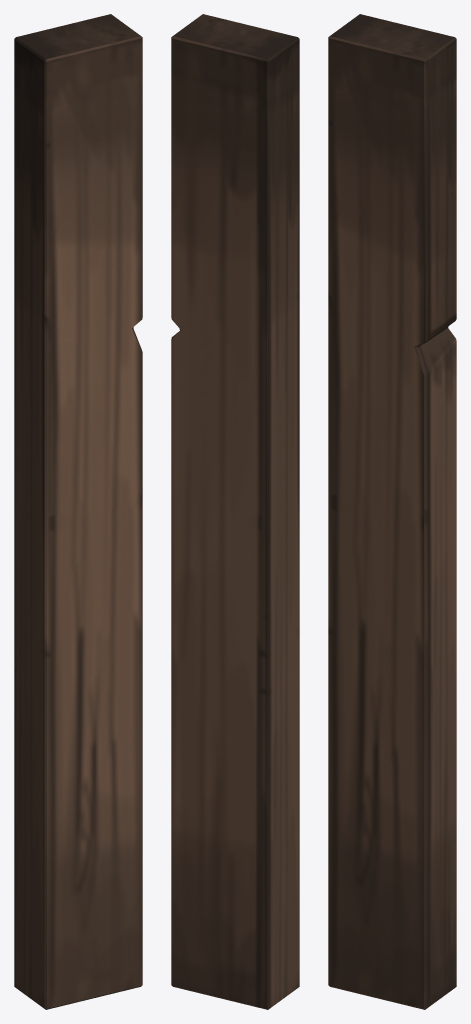
The model's file is Z1_Small_Wood_Pillar_2.FBX.
The picture shows the model from 3 angles, left to right: view 1: azimuth 30°, elevation 25°; view 2: azimuth 150°, elevation 25°; view 3: azimuth 330°, elevation 25°; orthographic projection.
Visible parts, largest first — view 1: Z1_Small_Wood_Pillar_2; view 2: Z1_Small_Wood_Pillar_2; view 3: Z1_Small_Wood_Pillar_2.
Part boxes in pixels (<box>): Z1_Small_Wood_Pillar_2: <box>14,14,142,1009</box>; Z1_Small_Wood_Pillar_2: <box>171,14,299,1009</box>; Z1_Small_Wood_Pillar_2: <box>328,14,456,1009</box>.
Size of the model in its own units: 20.04 by 185 by 11.3.
